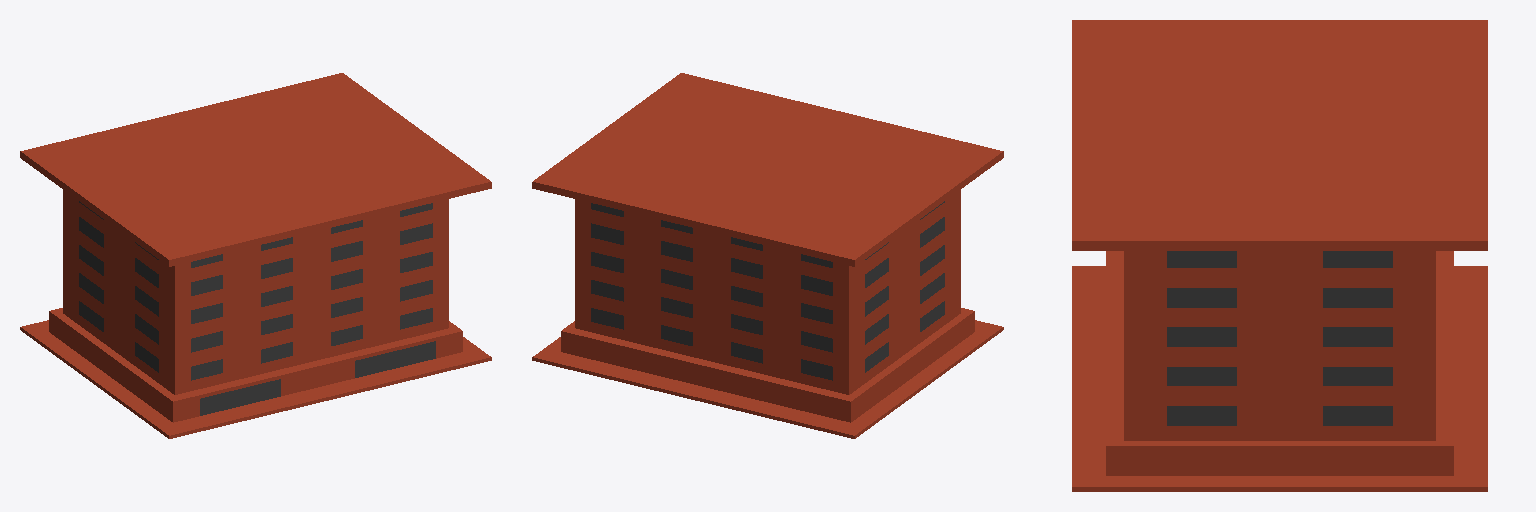
robot.urdf — building_2:
<?xml version="1.0"?> 

<!-- Copyright 2023 [author] -->

<!-- Licensed under the Apache License, Version 2.0 (the "License"); -->
<!-- you may not use this file except in compliance with the License. -->
<!-- You may obtain a copy of the License at -->

<!--     http://www.apache.org/licenses/LICENSE-2.0 -->

<!-- Unless required by applicable law or agreed to in writing, software -->
<!-- distributed under the License is distributed on an "AS IS" BASIS, -->
<!-- WITHOUT WARRANTIES OR CONDITIONS OF ANY KIND, either express or implied. -->
<!-- See the License for the specific language governing permissions and -->
<!-- limitations under the License. -->

<!-- Authors: [author], [author] -->

<robot name="building_2">
    <link name="building_2">
        <visual>
            <origin xyz="0 0 0" rpy="0 0 0" />
            <geometry>
                <mesh filename='meshes/building_2.stl' scale='0.06 0.08 0.025'/>
            </geometry>
            <material name="brick">
                <color rgba="0.7 0.3 0.2 1"/>
            </material>
        </visual>
        <collision>
            <origin xyz="0 0 0" rpy="0 0 0" />
            <geometry>
                <mesh filename='meshes/building_2.stl' scale='0.06 0.08 0.025'/>
            </geometry>
        </collision>
        <inertial>
            <mass value="10"/>
            <inertia ixx="0.4" ixy="0.0" ixz="0.0" iyy="0.4" iyz="0.0" izz="0.2" />
        </inertial>
    </link>
    <link name="windows">
        <visual>
            <origin xyz="0 0 0" rpy="0 0 0" />
            <geometry>
                <mesh filename='meshes/building_2windows.stl' scale='0.06 0.08 0.025'/>
            </geometry>
            <material name="black">
                <color rgba="0.3 0.3 0.3 1"/>
            </material>
        </visual>
        <collision>
            <origin xyz="0 0 0" rpy="0 0 0" />
            <geometry>
                <mesh filename='meshes/building_2windows.stl' scale='0.06 0.08 0.025'/>
            </geometry>
        </collision>
        <inertial>
            <mass value="10"/>
            <inertia ixx="0.4" ixy="0.0" ixz="0.0" iyy="0.4" iyz="0.0" izz="0.2" />
        </inertial>
    </link>
    <joint name="window" type="fixed">
        <origin rpy="0 0 0" xyz="0 0 0"/>
        <parent link="building_2"/>
        <child link="windows"/>
    </joint>
    <link name="doors">
        <visual>
            <origin xyz="0 0 0" rpy="0 0 0" />
            <geometry>
                <mesh filename='meshes/building_2doors.stl' scale='0.06 0.08 0.025'/>
            </geometry>
            <material name="black">
                <color rgba="0.3 0.3 0.3 1"/>
            </material>
        </visual>
        <collision>
            <origin xyz="0 0 0" rpy="0 0 0" />
            <geometry>
                <mesh filename='meshes/building_2doors.stl' scale='0.06 0.08 0.025'/>
            </geometry>
        </collision>
        <inertial>
            <mass value="10"/>
            <inertia ixx="0.4" ixy="0.0" ixz="0.0" iyy="0.4" iyz="0.0" izz="0.2" />
        </inertial>
    </link>
    <joint name="door" type="fixed">
        <origin rpy="0 0 0" xyz="0 -0.2 0"/>
        <parent link="building_2"/>
        <child link="doors"/>
        <axis xyz="-1 0 0"/>
    </joint>
</robot>

--- Render facts (derived) ---
Views: 3 orthographic renders of the robot side by side, from view 1: azimuth 30°, elevation 25°; view 2: azimuth 150°, elevation 25°; view 3: azimuth 270°, elevation 25°.
Model building_2 with 3 links and 2 joints (2 fixed), rooted at building_2, posed every joint at zero.
Visible links, largest first — view 1: building_2, windows, doors; view 2: building_2, windows; view 3: building_2, windows.
Link boxes in pixels (box(x1,y1,x2,y2)): building_2: box(20, 73, 491, 438); windows: box(79, 201, 432, 380); doors: box(200, 341, 435, 415); building_2: box(532, 73, 1003, 438); windows: box(591, 201, 944, 380); building_2: box(1072, 20, 1487, 491); windows: box(1167, 251, 1392, 425).
Bounding box of the posed robot: 6 × 4.8 × 3.19 m (x, y, z).
Meshes: 3 distinct files referenced, 3 mesh visuals loaded (3 binary STL).
